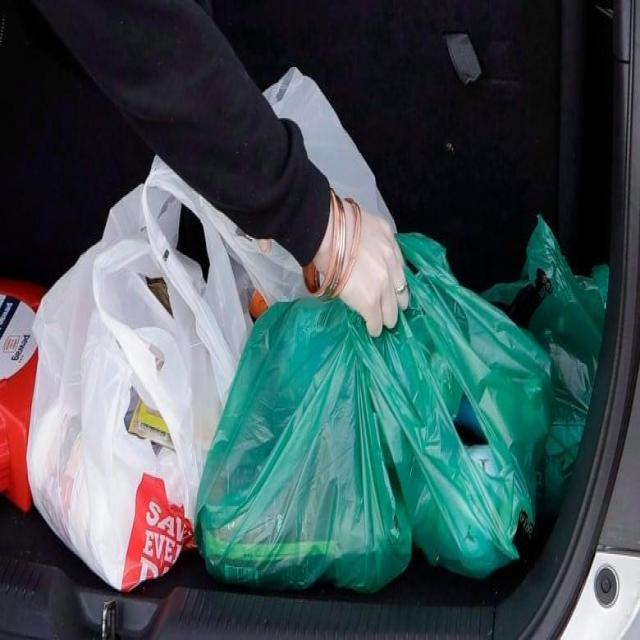plastic_bag: (17, 155, 252, 601), (198, 276, 417, 605), (377, 225, 550, 578), (482, 211, 621, 523)
